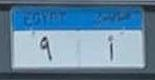9: (37, 35, 53, 64)
alif: (104, 34, 117, 62)
